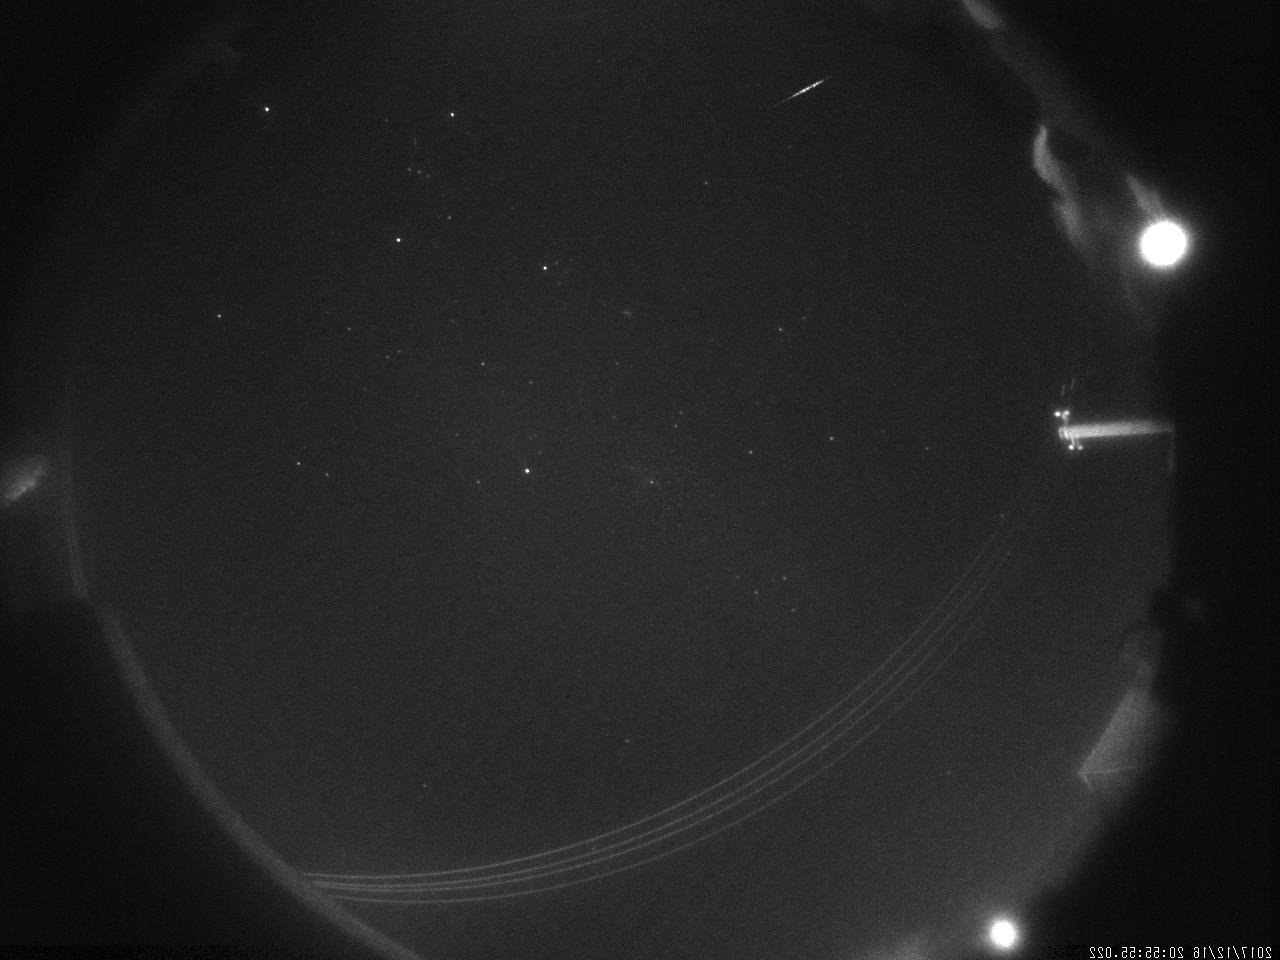meteor: (719, 59, 835, 141)
